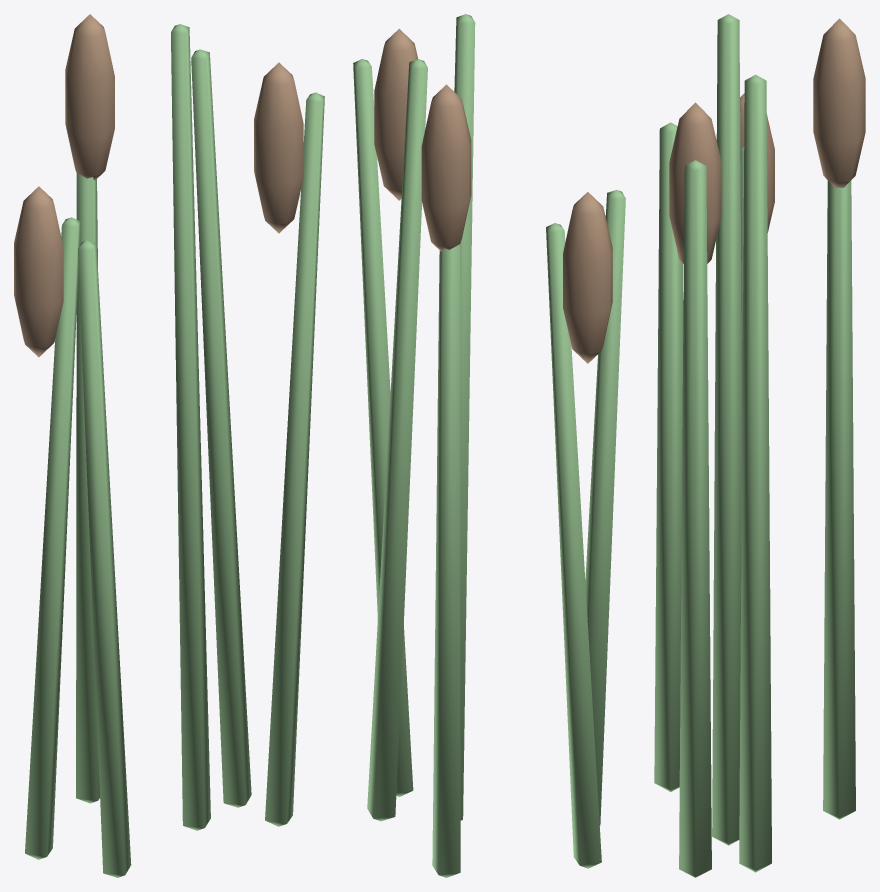
File: reeds.glb
The picture shows the model from 3 angles, left to right: view 1: azimuth 30°, elevation 25°; view 2: azimuth 150°, elevation 25°; view 3: azimuth 270°, elevation 25°; orthographic projection.
Parts seen in each view (by area): view 1: reeds; view 2: reeds; view 3: reeds.
Boxes of the visible parts, left/top/right/bottom form: reeds: left=14, top=14, right=324, bottom=877; reeds: left=353, top=14, right=625, bottom=877; reeds: left=654, top=14, right=865, bottom=877.
Size of the model in its own units: 0.3614 by 0.9933 by 0.231.
